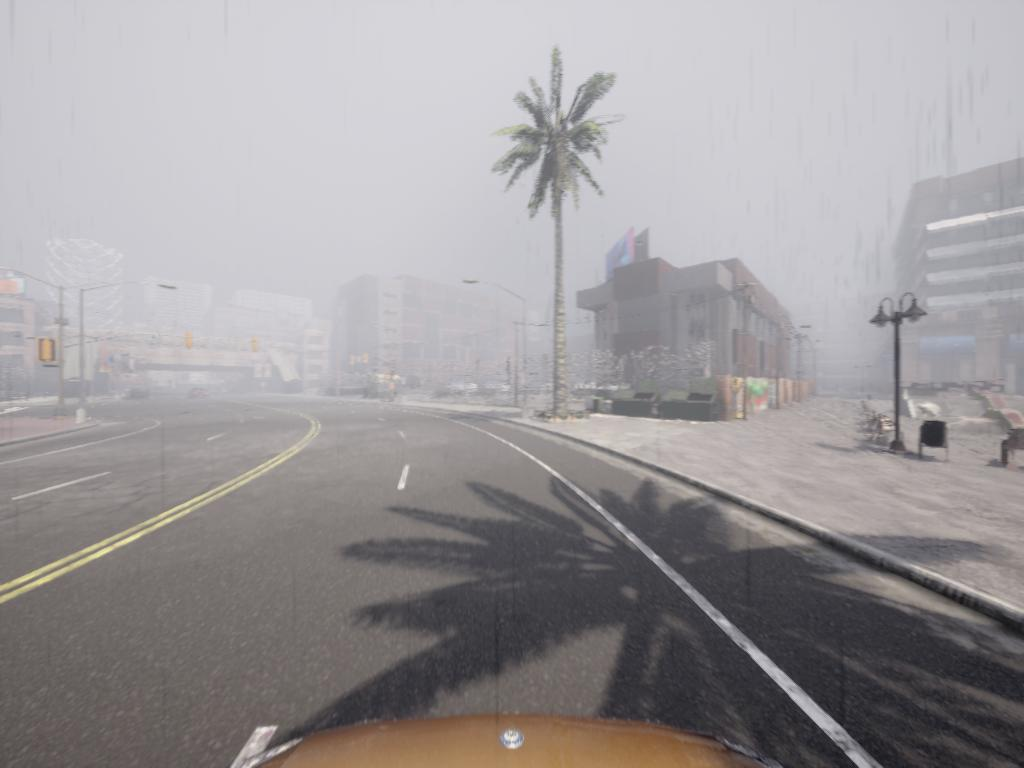traffic_light: (41, 337, 56, 367), (185, 332, 198, 349), (254, 339, 261, 354)
